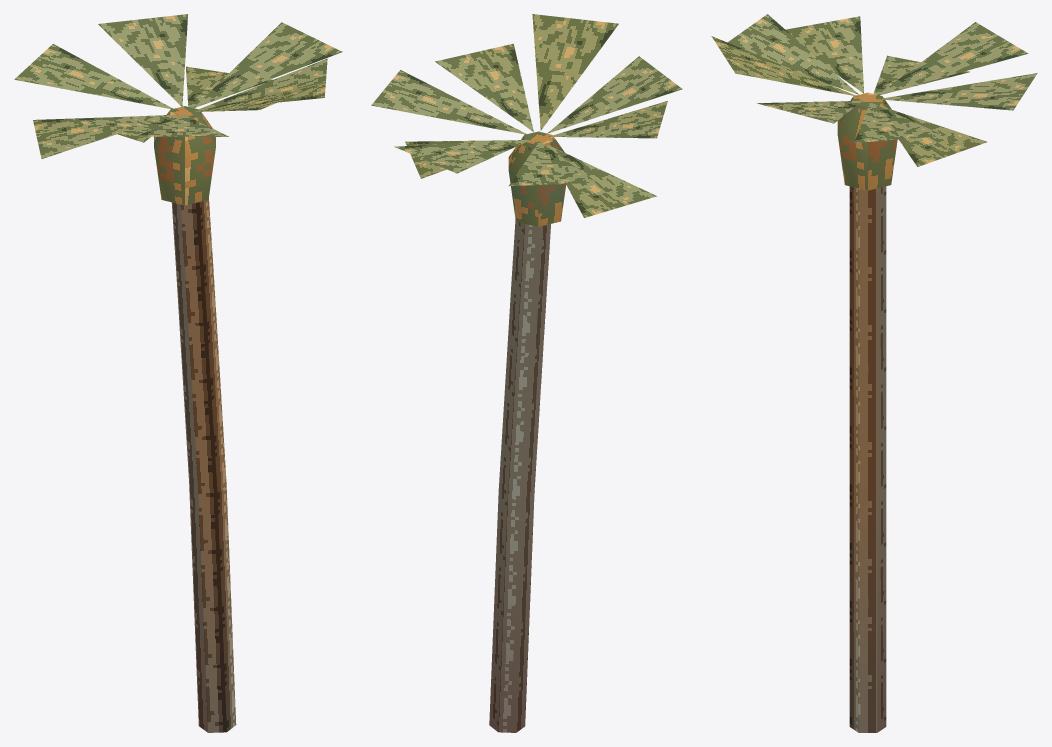
Rendered from wland.palm__tall.glb.
3 renders of one model, left to right at view 1: azimuth 30°, elevation 25°; view 2: azimuth 150°, elevation 25°; view 3: azimuth 270°, elevation 25°, orthographic. The views are drawn at different scales.
Parts seen in each view (by area): view 1: kit_card_fronds_back, kit_trunks, kit_skirts; view 2: kit_card_fronds_back, kit_trunks, kit_skirts; view 3: kit_card_fronds_back, kit_trunks, kit_skirts.
Part boxes in pixels (x1,y1,x2,y2): kit_card_fronds_back: [14, 14, 342, 158]; kit_trunks: [171, 114, 236, 732]; kit_skirts: [154, 106, 215, 205]; kit_card_fronds_back: [371, 14, 682, 217]; kit_trunks: [489, 142, 556, 732]; kit_skirts: [508, 131, 566, 226]; kit_card_fronds_back: [711, 14, 1037, 166]; kit_trunks: [849, 103, 886, 732]; kit_skirts: [837, 92, 897, 190].
Bounding box in the file's own units: 3.86 × 8.87 × 3.9.
3 materials, 3 textured.
